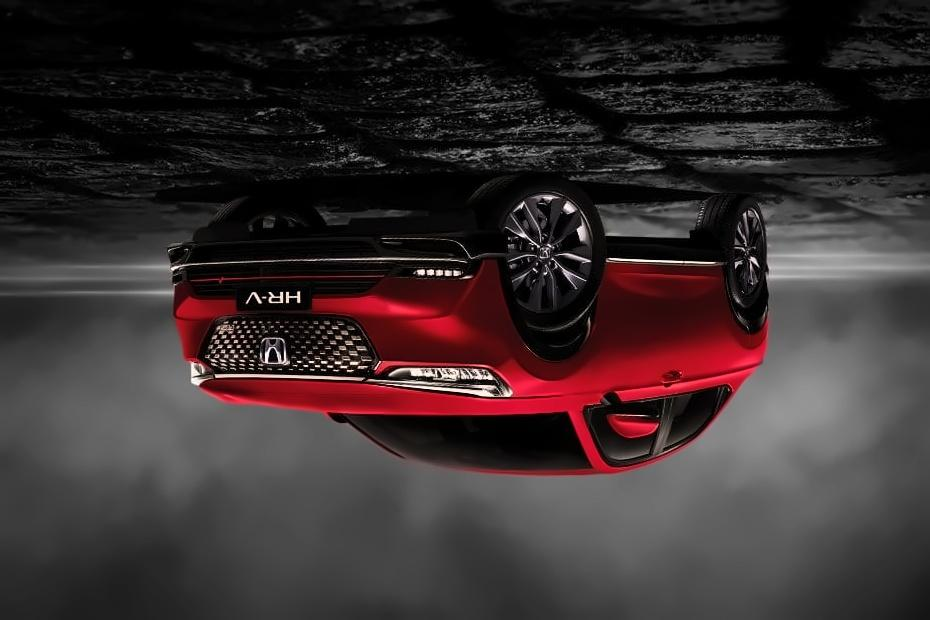Car hood: (197, 374, 560, 424)
Driver-s door - -F-R-: (584, 229, 682, 486)
Fender - -F-R-: (492, 240, 616, 423)
Fender - -R-R-: (709, 260, 779, 412)
Front bumper: (159, 233, 524, 359)
Headlight - -L-: (188, 358, 213, 391)
Headlight - -R-: (377, 367, 509, 398)
Passenger-s door - -R-R-: (654, 227, 746, 473)
Side mirror - -R-: (602, 386, 663, 443)
